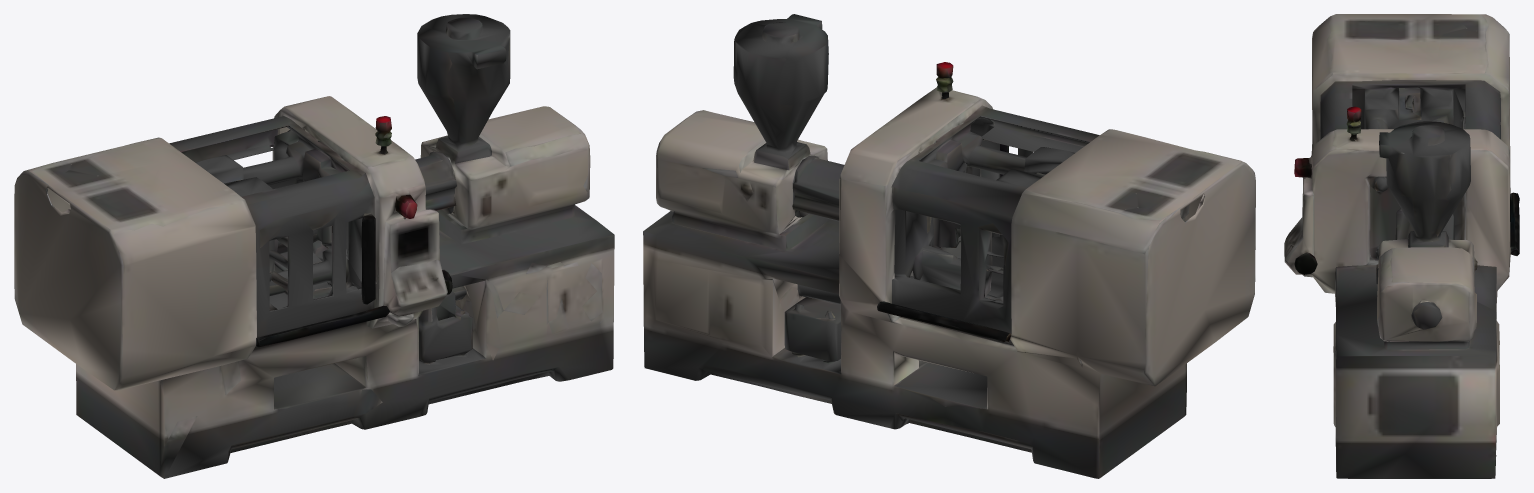
File: injection_moulding_machine.glb
The picture shows the model from 3 angles, left to right: view 1: azimuth 30°, elevation 25°; view 2: azimuth 150°, elevation 25°; view 3: azimuth 270°, elevation 25°; orthographic projection. The views are drawn at different scales.
Visible parts, largest first — view 1: geometry_0; view 2: geometry_0; view 3: geometry_0.
Boxes of the visible parts, x1=… form: geometry_0: x1=14, y1=14, x2=614, y2=478; geometry_0: x1=643, y1=14, x2=1255, y2=478; geometry_0: x1=1284, y1=14, x2=1519, y2=478.
Bounding box in the file's own units: 1 × 0.6201 × 0.4348.
Materials: 1 (1 with a texture image).
